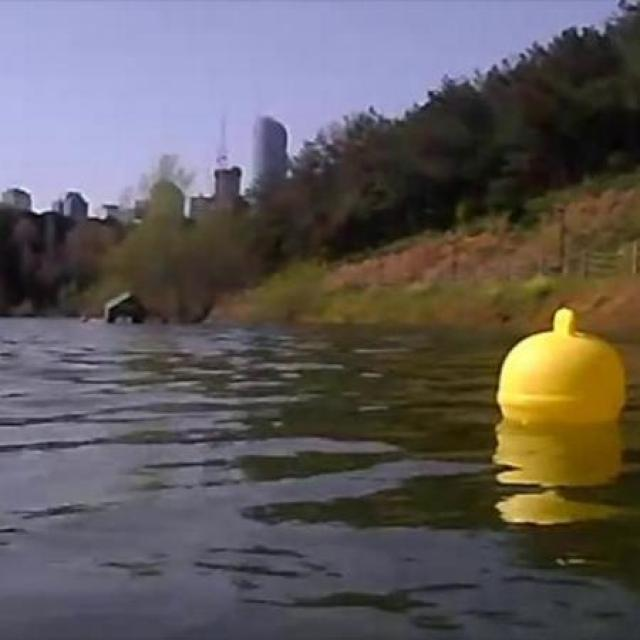buoy: (498, 308, 626, 424)
